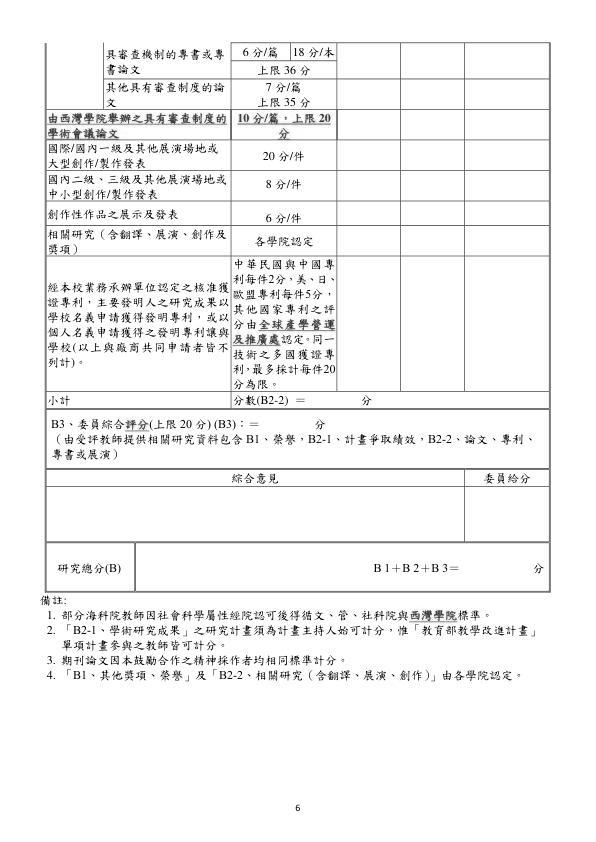table: (41, 34, 557, 594)
text: (45, 607, 542, 686), (40, 594, 69, 607)
